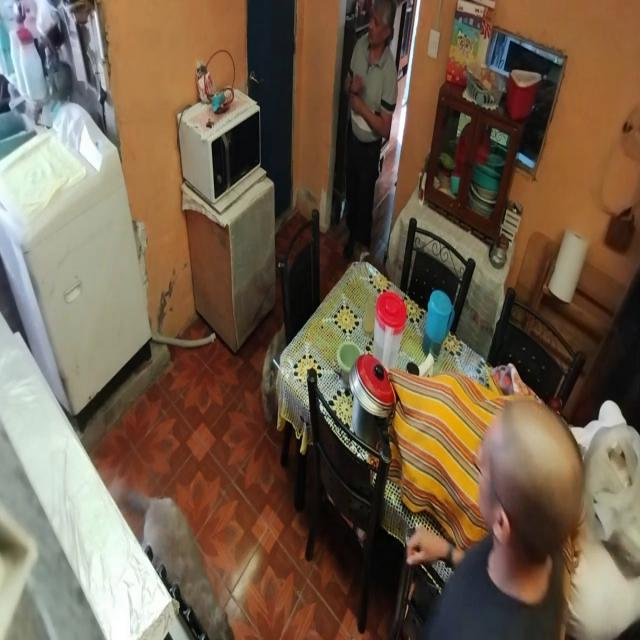adult: (406, 392, 588, 640), (341, 0, 400, 265)
